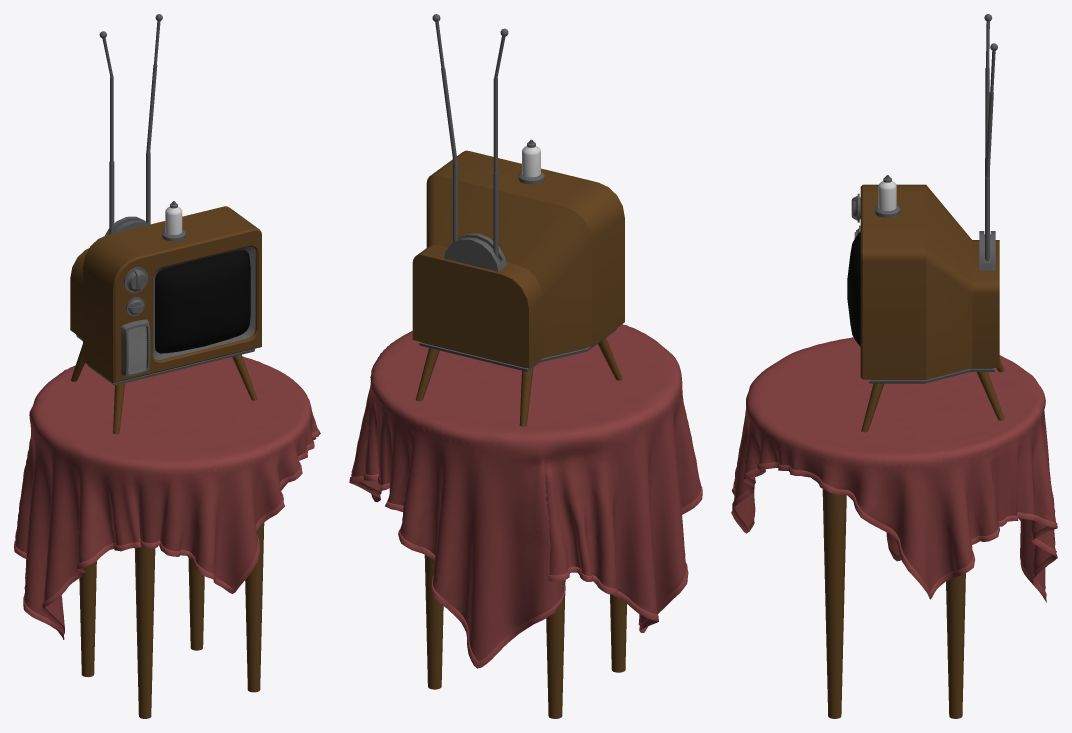
3 views of the same model, side by side, from view 1: azimuth 30°, elevation 25°; view 2: azimuth 150°, elevation 25°; view 3: azimuth 270°, elevation 25° (orthographic). The views are drawn at different scales.
Visible parts, largest first — view 1: TableCloth, Plane, Circle.009, Circle.003, Cylinder, Cylinder.001, Plane.002, Plane.003, Circle.006, Circle.001; view 2: TableCloth, Plane, Circle.009, Circle, Circle.003, Cylinder.001, Cylinder, Circle.006; view 3: TableCloth, Plane, Circle.009, Cylinder, Circle.003, Cylinder.001, Circle.006, Circle.
Part boxes in pixels (<box>): TableCloth: <box>14,356,320,639</box>; Plane: <box>70,206,261,385</box>; Circle.009: <box>79,523,264,718</box>; Circle.003: <box>71,344,257,434</box>; Cylinder: <box>146,14,162,224</box>; Cylinder.001: <box>99,31,114,234</box>; Plane.002: <box>121,319,150,376</box>; Plane.003: <box>128,326,146,372</box>; Circle.006: <box>165,201,182,234</box>; Circle.001: <box>123,267,148,293</box>; TableCloth: <box>349,324,702,668</box>; Plane: <box>412,150,624,371</box>; Circle.009: <box>424,555,626,718</box>; Circle: <box>444,233,506,271</box>; Circle.003: <box>415,338,622,426</box>; Cylinder.001: <box>493,28,508,259</box>; Cylinder: <box>432,14,457,242</box>; Circle.006: <box>522,139,540,177</box>; TableCloth: <box>731,337,1057,602</box>; Plane: <box>847,184,999,383</box>; Circle.009: <box>822,489,965,718</box>; Cylinder: <box>985,43,997,261</box>; Circle.003: <box>861,358,1004,432</box>; Cylinder.001: <box>984,14,991,176</box>; Circle.006: <box>878,175,896,210</box>; Circle: <box>979,231,995,270</box>.
Bounding box in the file's own units: 584 × 1290 × 577.
